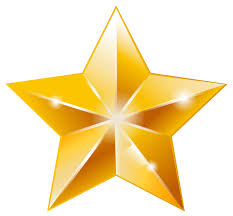dog: (2, 2, 232, 216)
